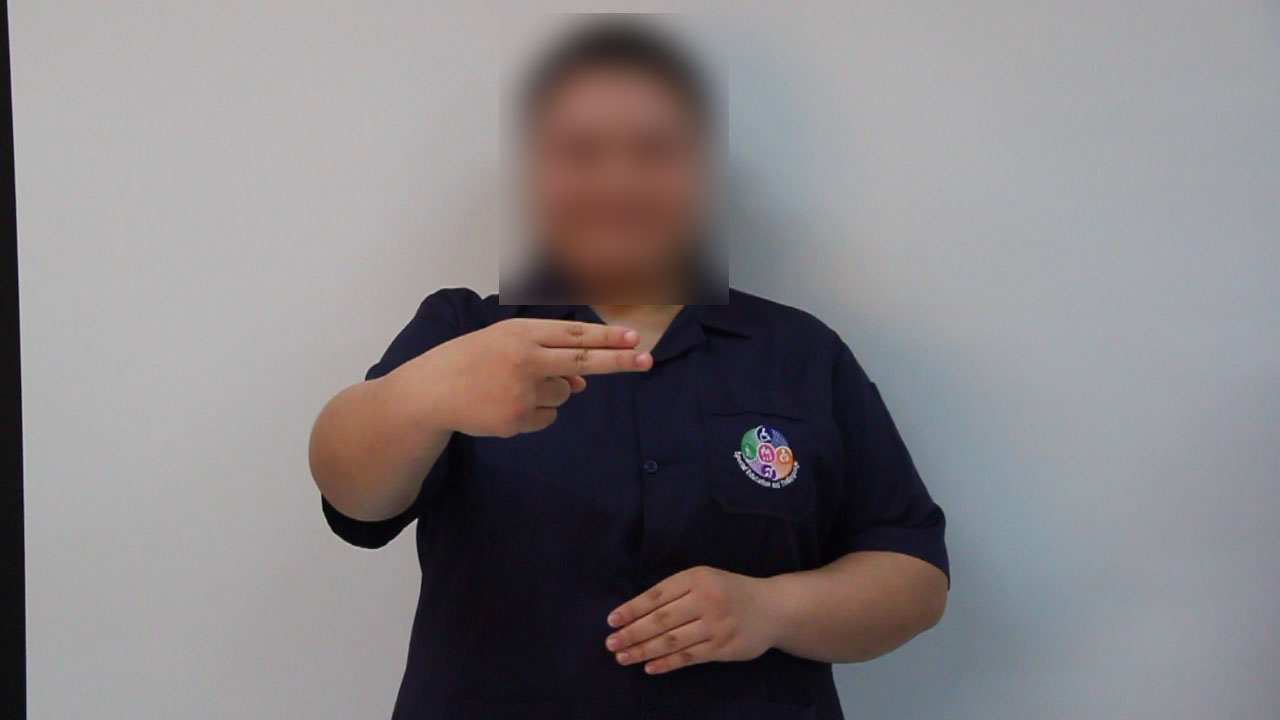hor: (423, 308, 663, 449)
